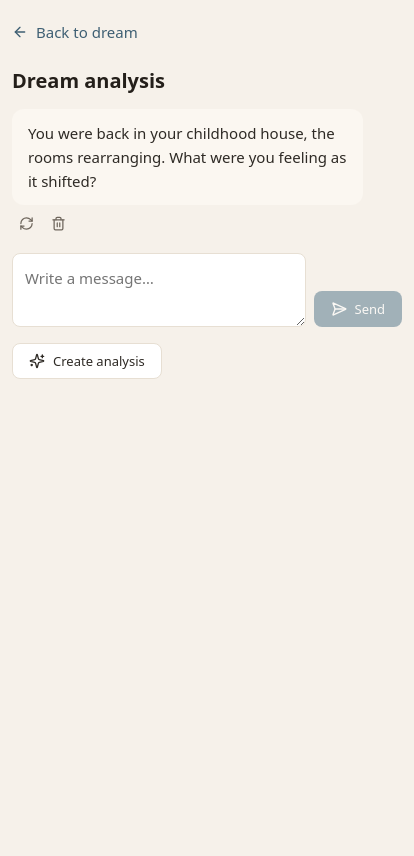
Dreams analysis UI › synthesizes the dream into a structured analysis card
The image size is (414, 856).
Check: the text "childhood house" is shown, box [28,123,350,191]
Click the button "Create analysis" at (87, 361), box [12,343,162,379]
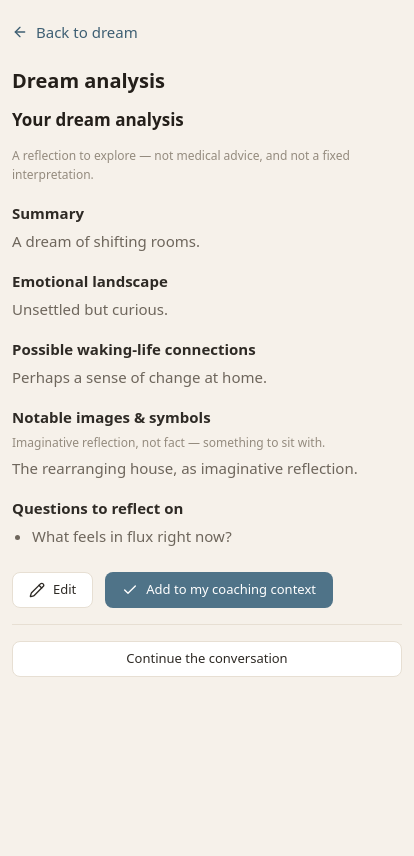
Check: the heading "Your dream analysis" is shown, box [12,109,184,130]
Check: the text "A dream of shifting rooms." is shown, box [12,231,200,251]
